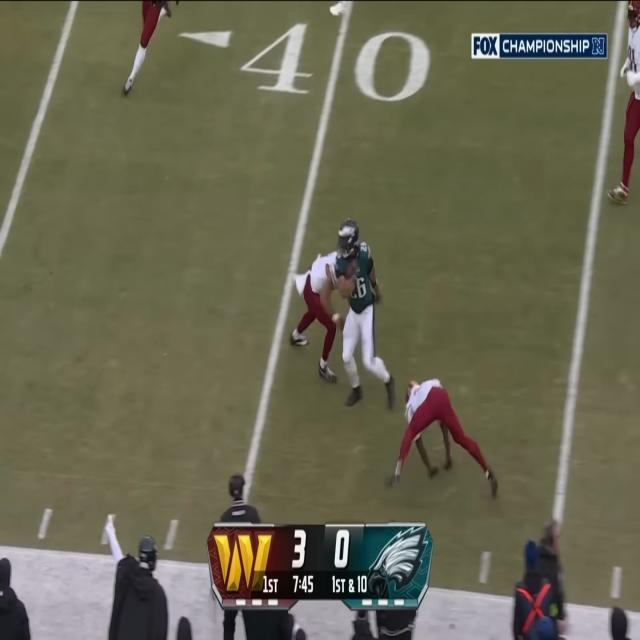Ball: (343, 258, 360, 281)
